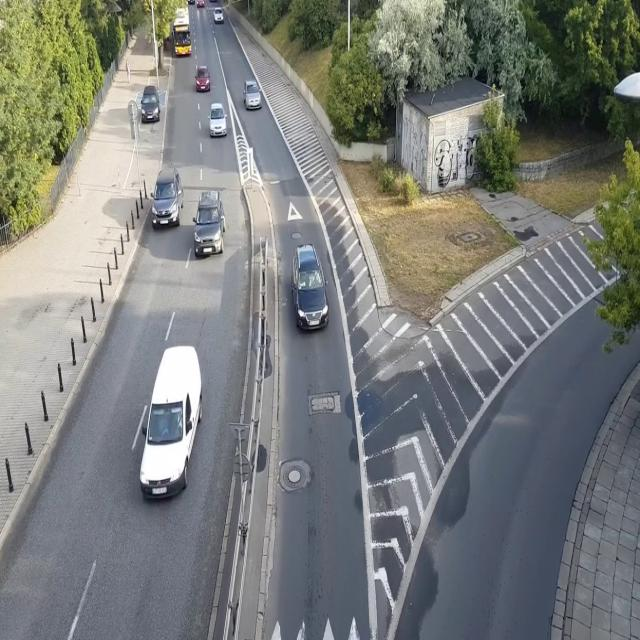bus: (172, 0, 192, 57)
car: (289, 244, 329, 330), (191, 188, 226, 256), (149, 168, 185, 228), (140, 83, 161, 124), (208, 101, 228, 140), (243, 79, 262, 111), (195, 65, 211, 93), (213, 7, 224, 25), (196, 0, 205, 8), (187, 0, 195, 5)
van: (137, 344, 204, 499)
